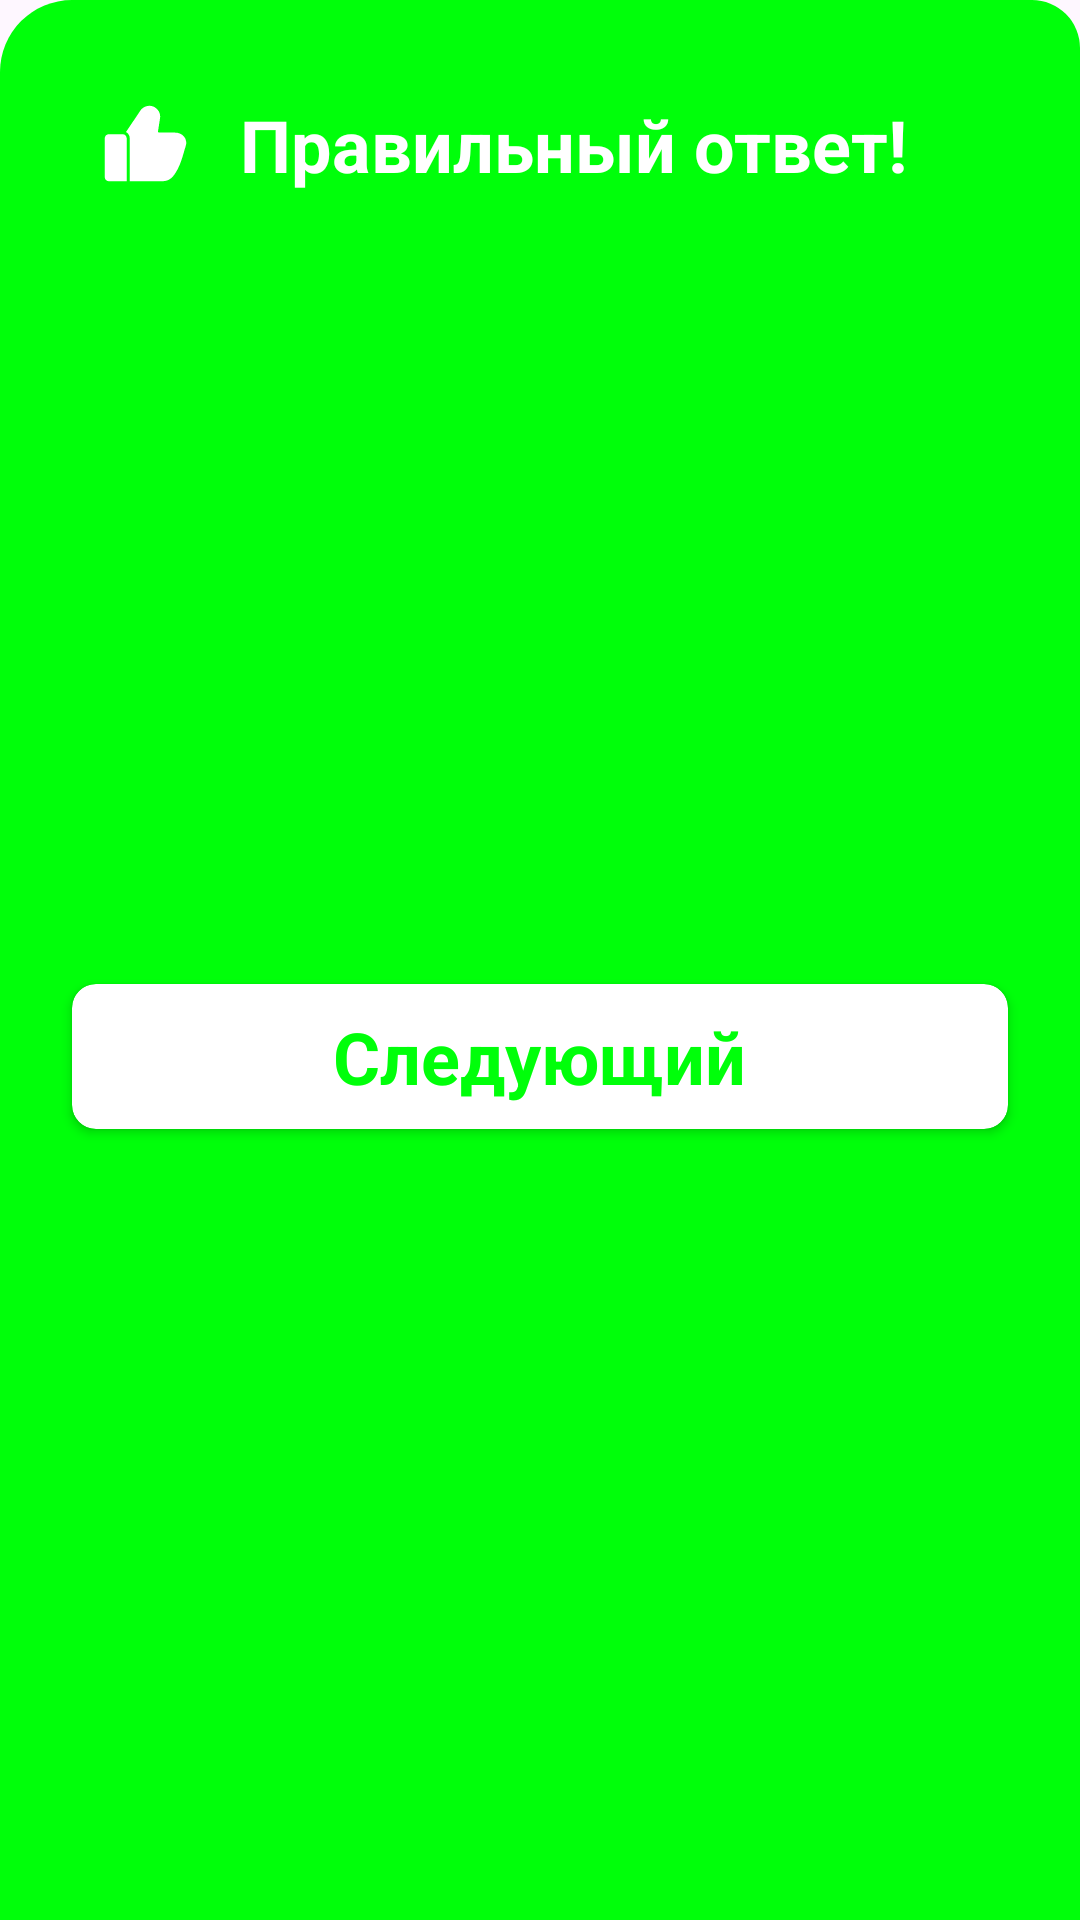

Named icons in this screenshot (1080 x 1920) and their bounding boxes, (x1=x1, y1=y1, x2=x2, y2=y2):
like: (x1=104, y1=105, x2=187, y2=182)
